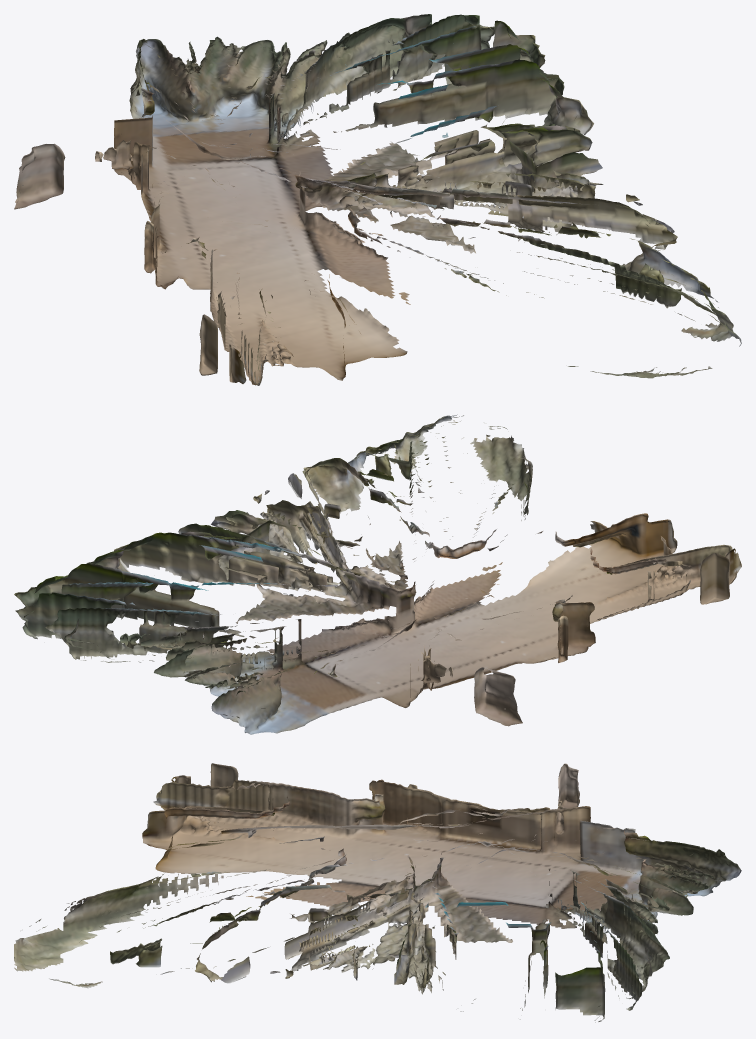
3 renders of one model, top to bottom at view 1: azimuth 30°, elevation 25°; view 2: azimuth 150°, elevation 25°; view 3: azimuth 270°, elevation 25°, orthographic. The views are drawn at different scales.
Visible parts, largest first — view 1: world; view 2: world; view 3: world.
Boxes of the visible parts, box(x1,y1,x2,y2) form: world: box(14, 14, 741, 385); world: box(14, 414, 741, 734); world: box(14, 763, 741, 1022).
Size of the model in its own units: 16.93 by 2.34 by 22.31.
